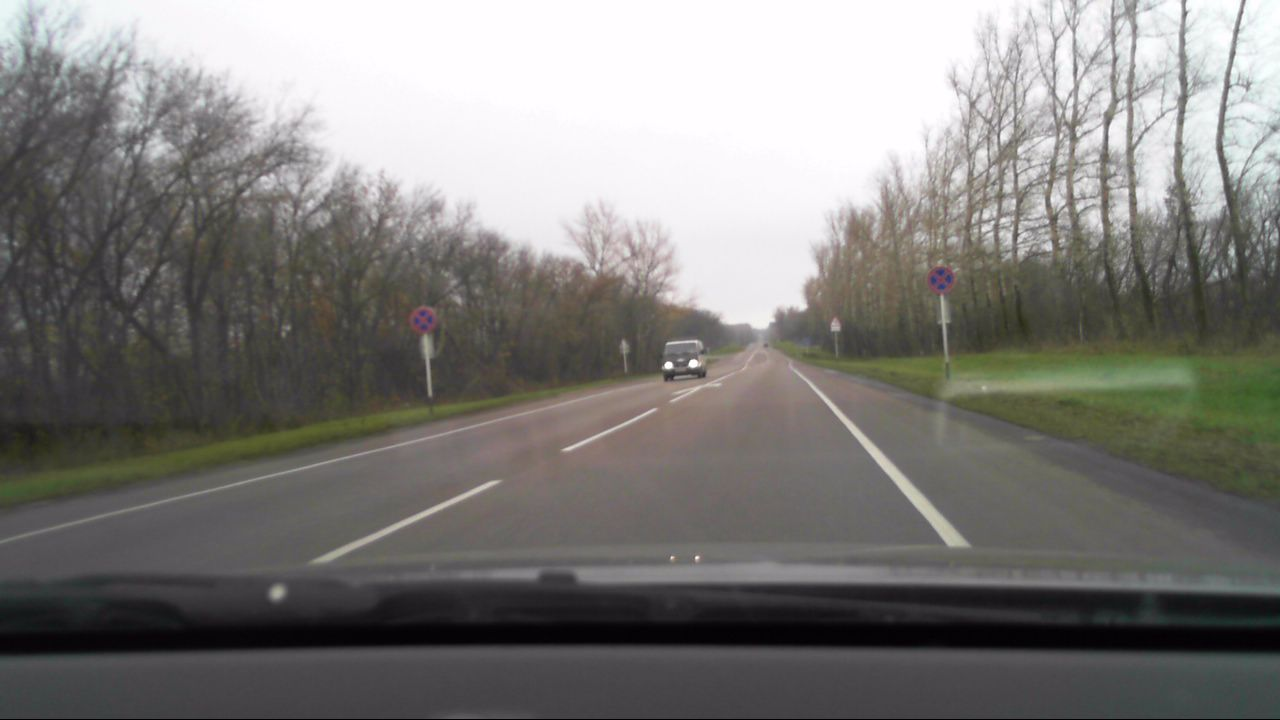No Parking: (411, 305, 438, 332)
